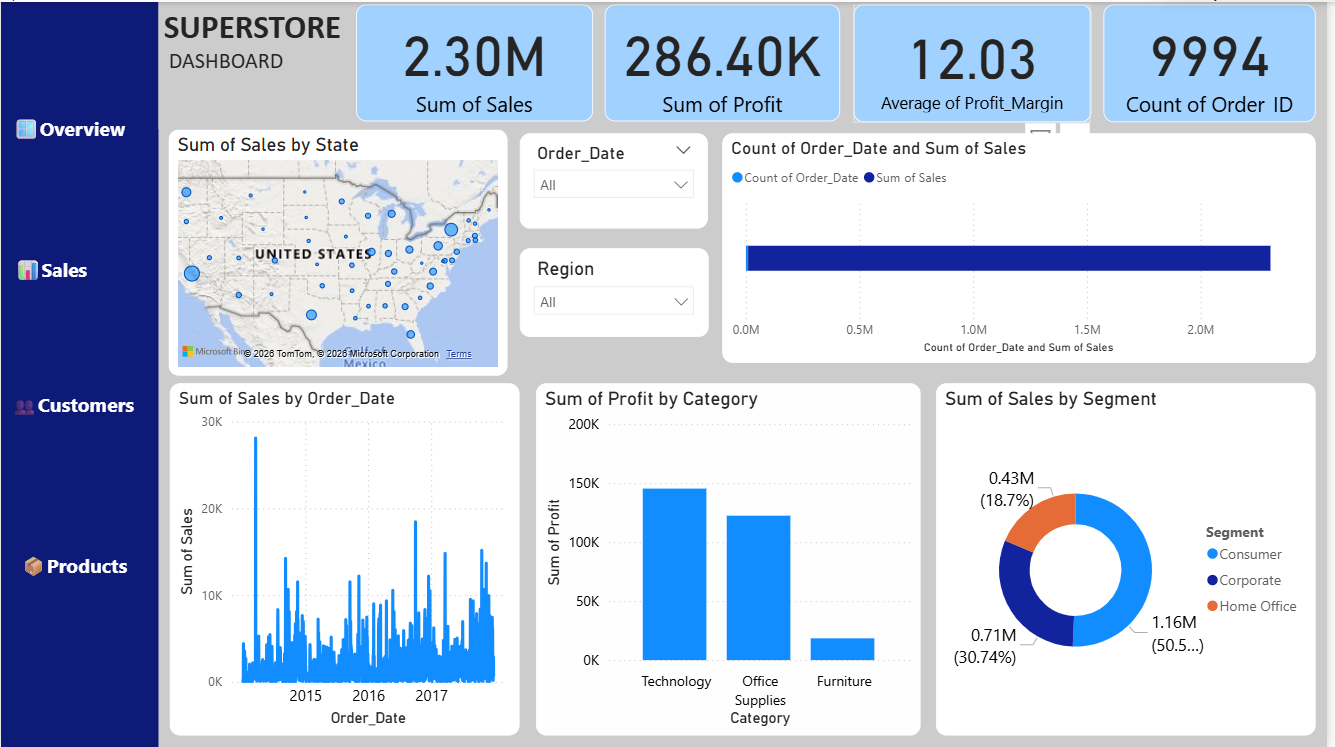

The page's visual inventory and layout, read from the dashboard file:
{"tool":"powerbi","page":{"name":"Page 1","canvas":[1280,720],"ordinal":0},"visuals":[{"type":"shape","box":[0,0,152,720.2],"z":0},{"type":"actionButton","box":[0,93.3,131.7,57.6],"z":1000},{"type":"actionButton","box":[0,234,96.5,47.1],"z":2000},{"type":"actionButton","box":[0,367.8,138.6,41.2],"z":3000},{"type":"actionButton","box":[8.2,524.2,123.5,39.8],"z":4000},{"type":"shape","box":[160.5,0,1107.5,102.5],"z":5000},{"type":"textbox","box":[152.3,0,227.8,122.1],"z":6000},{"type":"card","fields":{"Values":["Sum(cleaned_superstore_final.Sales)"]},"box":[342.8,2.8,228.5,112.9],"z":7000},{"type":"card","fields":{"Values":["Sum(cleaned_superstore_final.Profit)"]},"box":[582.3,2.8,227.1,112.9],"z":8000},{"type":"card","fields":{"Values":["Avg(cleaned_superstore_final.Profit_Margin)"]},"box":[822.8,2.4,229.2,113.4],"z":9000},{"type":"card","fields":{"Values":["CountNonNull(cleaned_superstore_final.Order_ID)"]},"box":[1064.1,0,205.1,115.6],"z":10000},{"type":"barChart","fields":{"Y":["CountNonNull(cleaned_superstore_final.Order_Date)","Sum(cleaned_superstore_final.Sales)"]},"box":[696.6,126.7,572.7,221.6],"z":11000},{"type":"donutChart","fields":{"Category":["cleaned_superstore_final.Segment"],"Y":["Sum(cleaned_superstore_final.Sales)"]},"box":[902.4,368,366.8,340.2],"z":12000},{"type":"clusteredColumnChart","fields":{"Category":["cleaned_superstore_final.Category"],"Y":["Sum(cleaned_superstore_final.Profit)"]},"box":[516.4,368,371.6,340.2],"z":13000},{"type":"map","fields":{"Category":["cleaned_superstore_final.State"],"Size":["Sum(cleaned_superstore_final.Sales)"]},"box":[161.7,123.1,326.9,237.7],"z":14000},{"type":"slicer","fields":{"Values":["cleaned_superstore_final.Region"]},"box":[500.7,237.7,182.2,85.7],"z":15000},{"type":"slicer","fields":{"Values":["cleaned_superstore_final.Order_Date"]},"box":[501.1,126.7,181.7,92.2],"z":16000},{"type":"lineChart","fields":{"Y":["Sum(cleaned_superstore_final.Sales)"],"Category":["cleaned_superstore_final.Order_Date"]},"box":[162.9,368,337.8,340.2],"z":17000}]}

Visuals, with their boxes in screenshot pixels (x1, y1, x2, y2), scaled from the page's 1280x720 canvas onto the 1335x747 screenshot:
shape: <box>0,0,159,746</box>
actionButton: <box>0,97,137,157</box>
actionButton: <box>0,243,101,292</box>
actionButton: <box>0,382,145,424</box>
actionButton: <box>9,544,137,585</box>
shape: <box>167,0,1322,106</box>
textbox: <box>159,0,396,127</box>
card - Sum(cleaned_superstore_final.Sales): <box>358,3,596,120</box>
card - Sum(cleaned_superstore_final.Profit): <box>607,3,844,120</box>
card - Avg(cleaned_superstore_final.Profit_Margin): <box>858,2,1097,120</box>
card - CountNonNull(cleaned_superstore_final.Order_ID): <box>1110,0,1324,120</box>
barChart - CountNonNull(cleaned_superstore_final.Order_Date) x Sum(cleaned_superstore_final.Sales): <box>727,131,1324,361</box>
donutChart - cleaned_superstore_final.Segment x Sum(cleaned_superstore_final.Sales): <box>941,382,1324,735</box>
clusteredColumnChart - cleaned_superstore_final.Category x Sum(cleaned_superstore_final.Profit): <box>539,382,926,735</box>
map - cleaned_superstore_final.State x Sum(cleaned_superstore_final.Sales): <box>169,128,510,374</box>
slicer - cleaned_superstore_final.Region: <box>522,247,712,336</box>
slicer - cleaned_superstore_final.Order_Date: <box>523,131,712,227</box>
lineChart - Sum(cleaned_superstore_final.Sales) x cleaned_superstore_final.Order_Date: <box>170,382,522,735</box>
